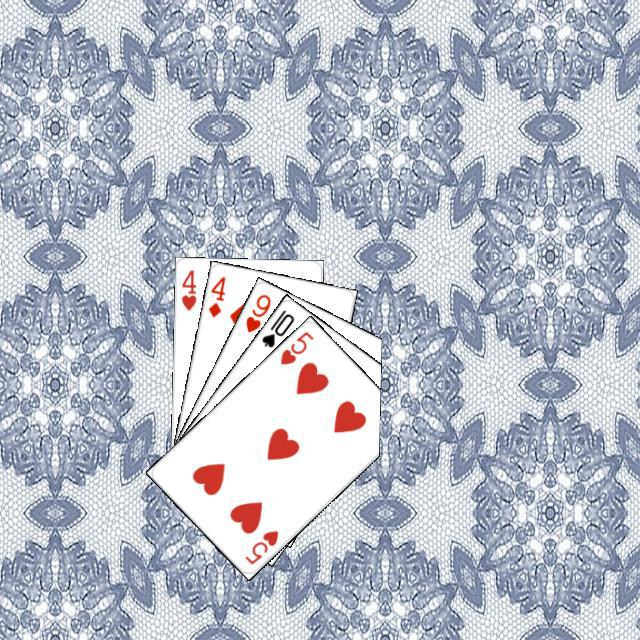10s: (256, 305, 296, 349)
4d: (203, 272, 227, 319)
4h: (176, 265, 198, 312)
5h: (275, 326, 315, 367), (240, 526, 280, 566)
9h: (240, 289, 273, 335)
